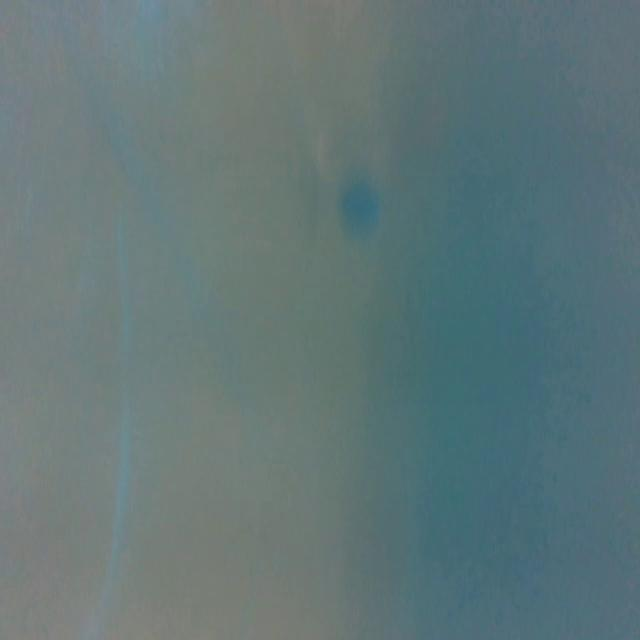plastic bottle: (302, 20, 408, 250)
